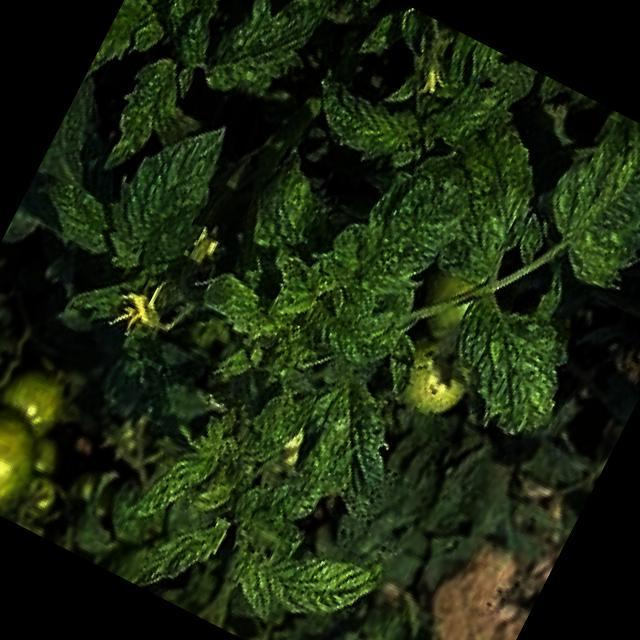Tomato yellow virus leaf: (76, 88, 258, 316), (302, 131, 487, 353), (420, 274, 602, 460), (198, 135, 370, 328), (408, 103, 570, 294), (272, 364, 435, 537), (517, 101, 640, 315), (287, 48, 450, 198), (233, 507, 397, 640), (112, 401, 238, 558), (194, 0, 335, 123)
